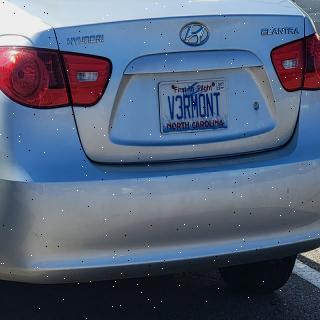license: (159, 78, 231, 135)
